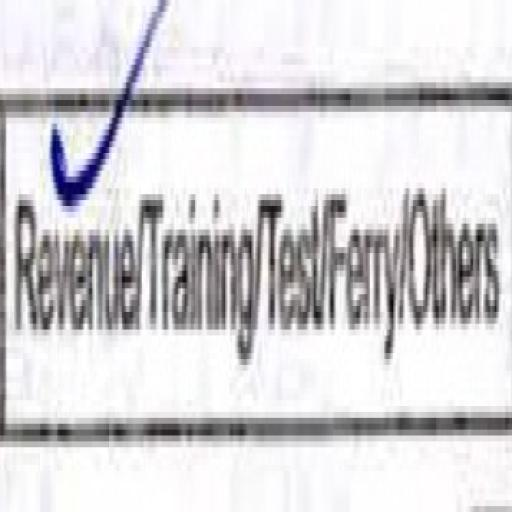check: (0, 0, 141, 464)
